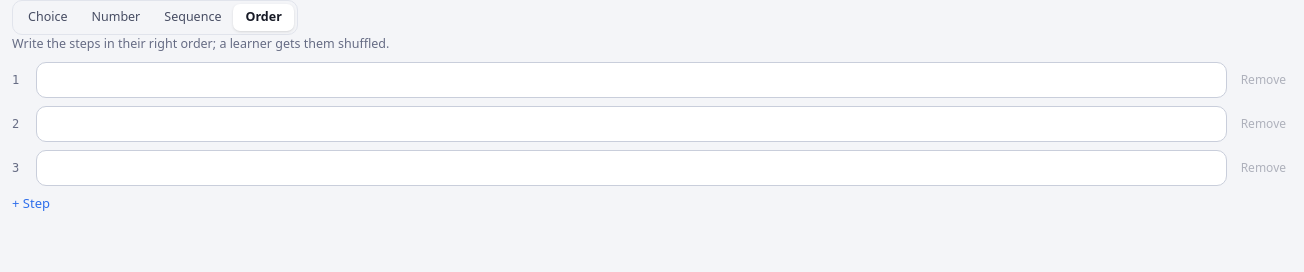
it: AnswerEditor › edits an order's steps, in their right order
This screenshot has width=1304, height=272.
Type "Cut reads into k-mers" into the field named "Step 1". click: coordinates (631, 80)
box: [36,62,1227,98]
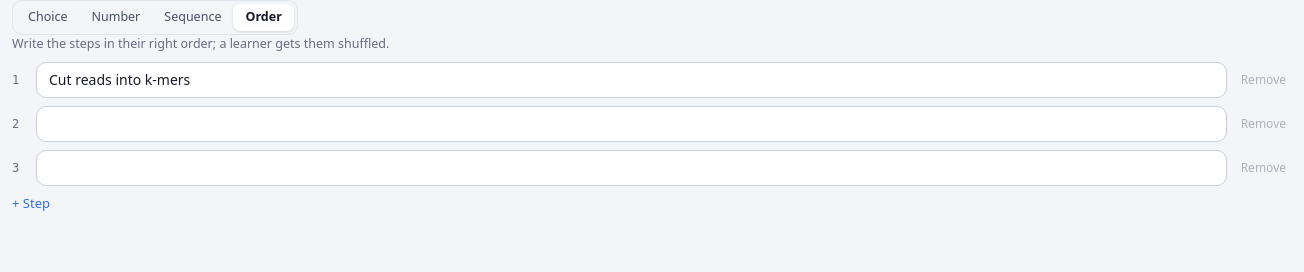
Click the button "+ Step". click: coordinates (31, 203)
box: [12,194,50,213]
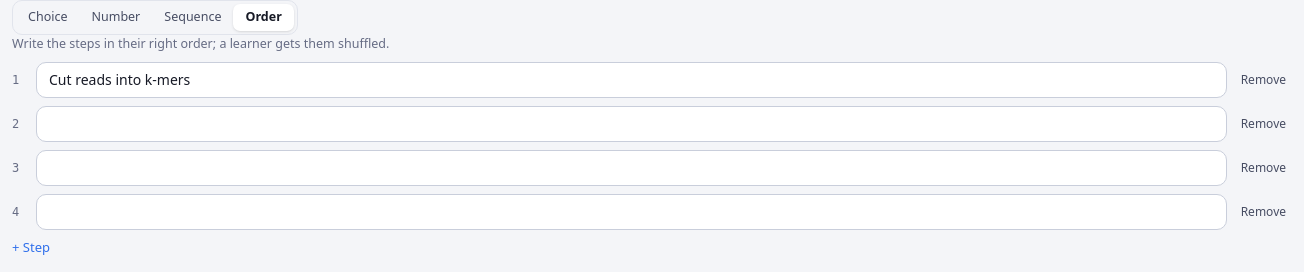
Check: the button with aria-label "Remove step 1" is enabled, box [1235,68,1292,90]
